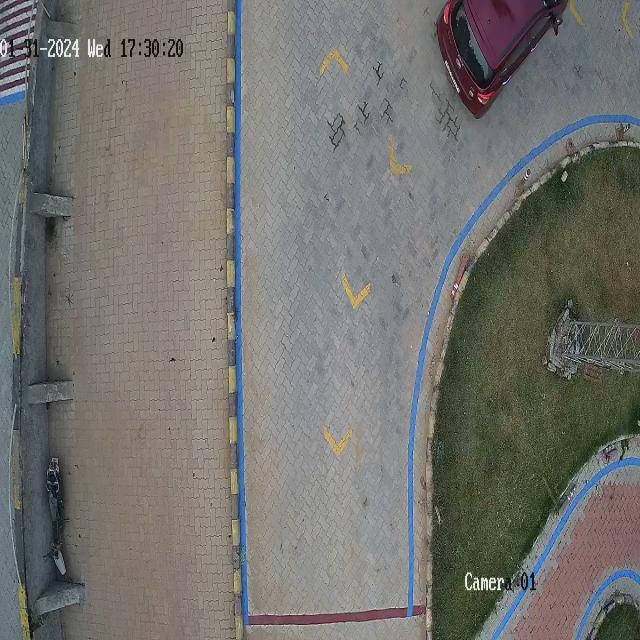car: (436, 0, 566, 118)
